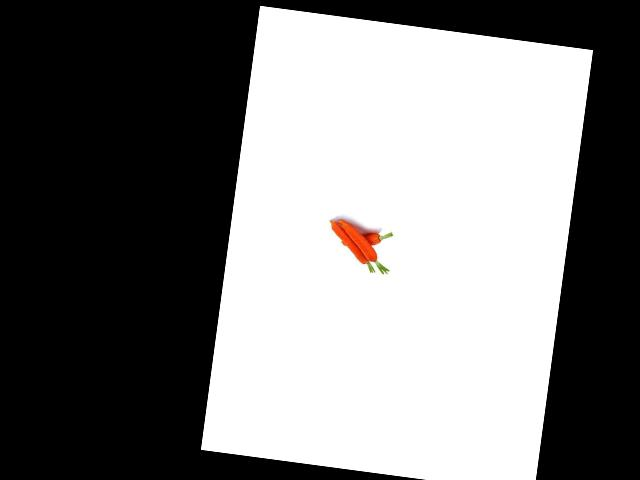carrot: (338, 227, 392, 254)
